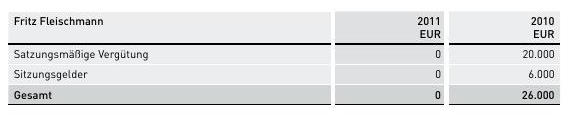table: (0, 0, 568, 115)
